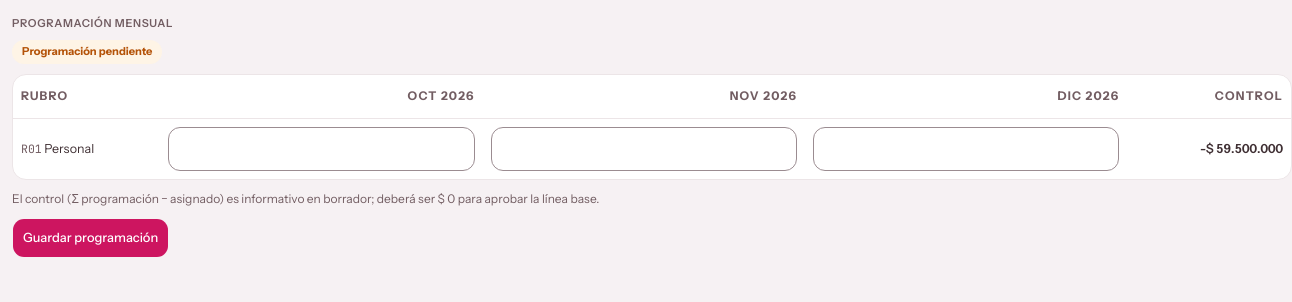
Test: PresupuestoProgramacion › typing 1.234.567{backspace} shows 1.234.56 after blur and submits null
In the field named "Programado R01 nov 2026": coordinates (644, 149) [491,127,797,171], type "1.234.567"
Then press Backspace
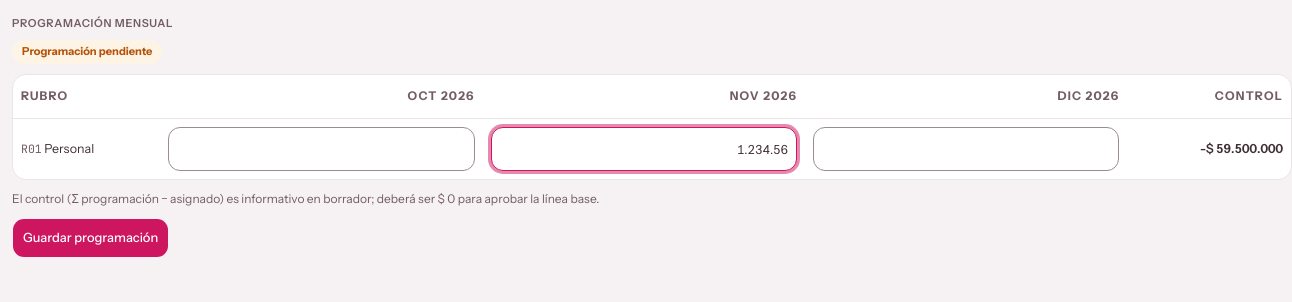
Press Tab
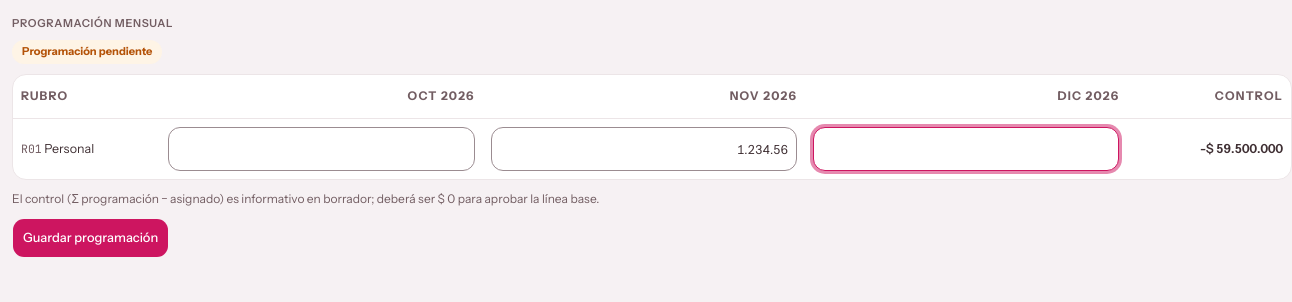
Check: the field named "Programado R01 nov 2026" holds "1.234.56", box [491,127,797,171]
Click the button "Guardar programación": coordinates (91, 238) [12,218,169,258]
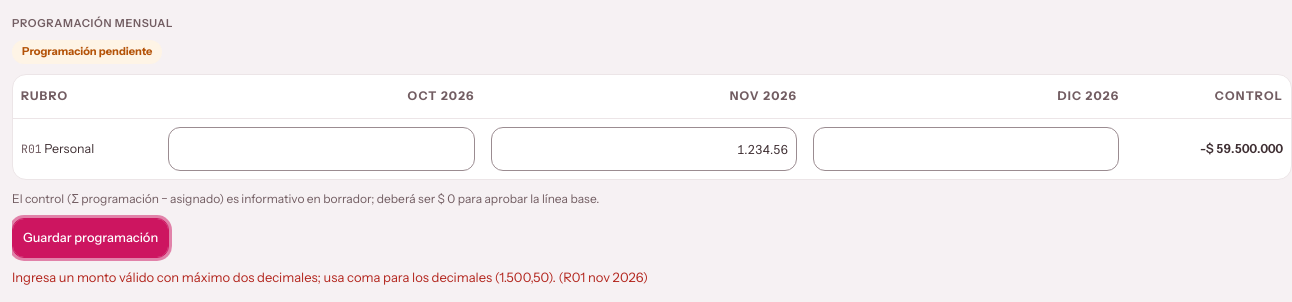
Check: the message shows "Ingresa un monto válido", box [12,269,648,285]
